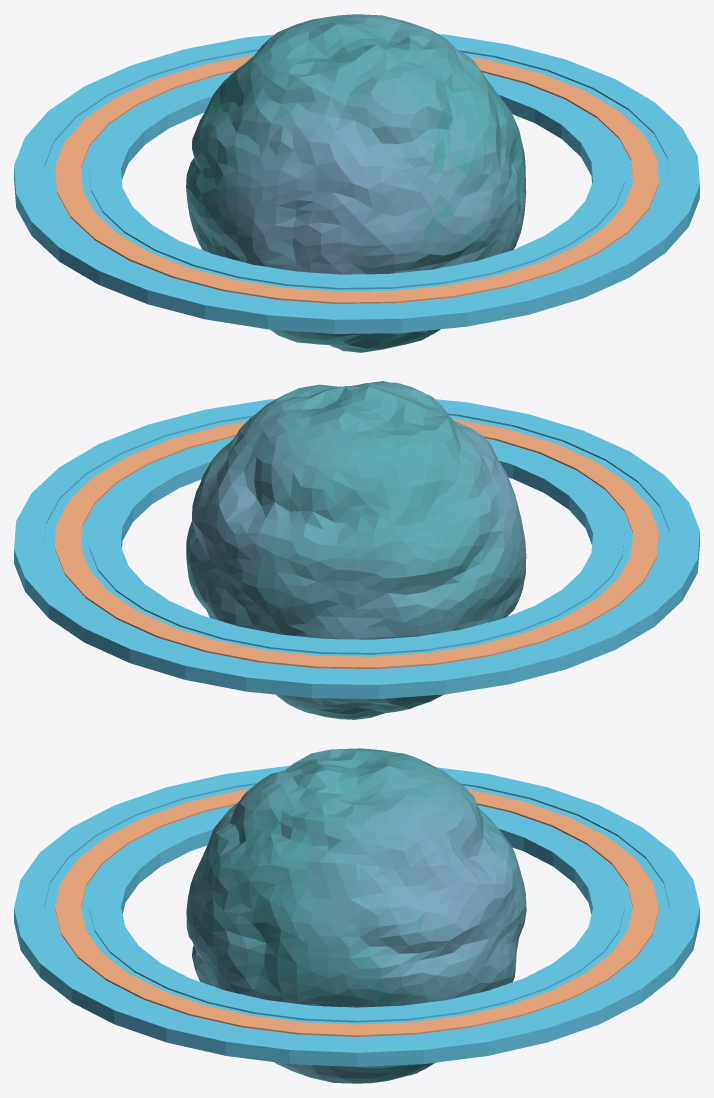
File: uranus.gltf
3 views of the same model, one above another, from view 1: azimuth 30°, elevation 25°; view 2: azimuth 150°, elevation 25°; view 3: azimuth 270°, elevation 25° (orthographic).
Visible parts, largest first — view 1: Saturn.001; view 2: Saturn.001; view 3: Saturn.001.
Boxes of the visible parts, left/top/right/bottom form: Saturn.001: left=14, top=14, right=699, bottom=352; Saturn.001: left=14, top=381, right=699, bottom=719; Saturn.001: left=14, top=748, right=699, bottom=1083.
Bounding box in the file's own units: 4.06 × 1.98 × 4.06.
3 materials, 3 textured.
